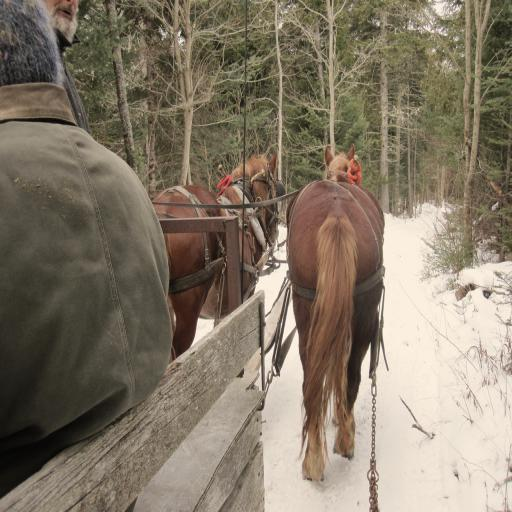horse: (284, 142, 388, 484), (152, 148, 282, 358)
